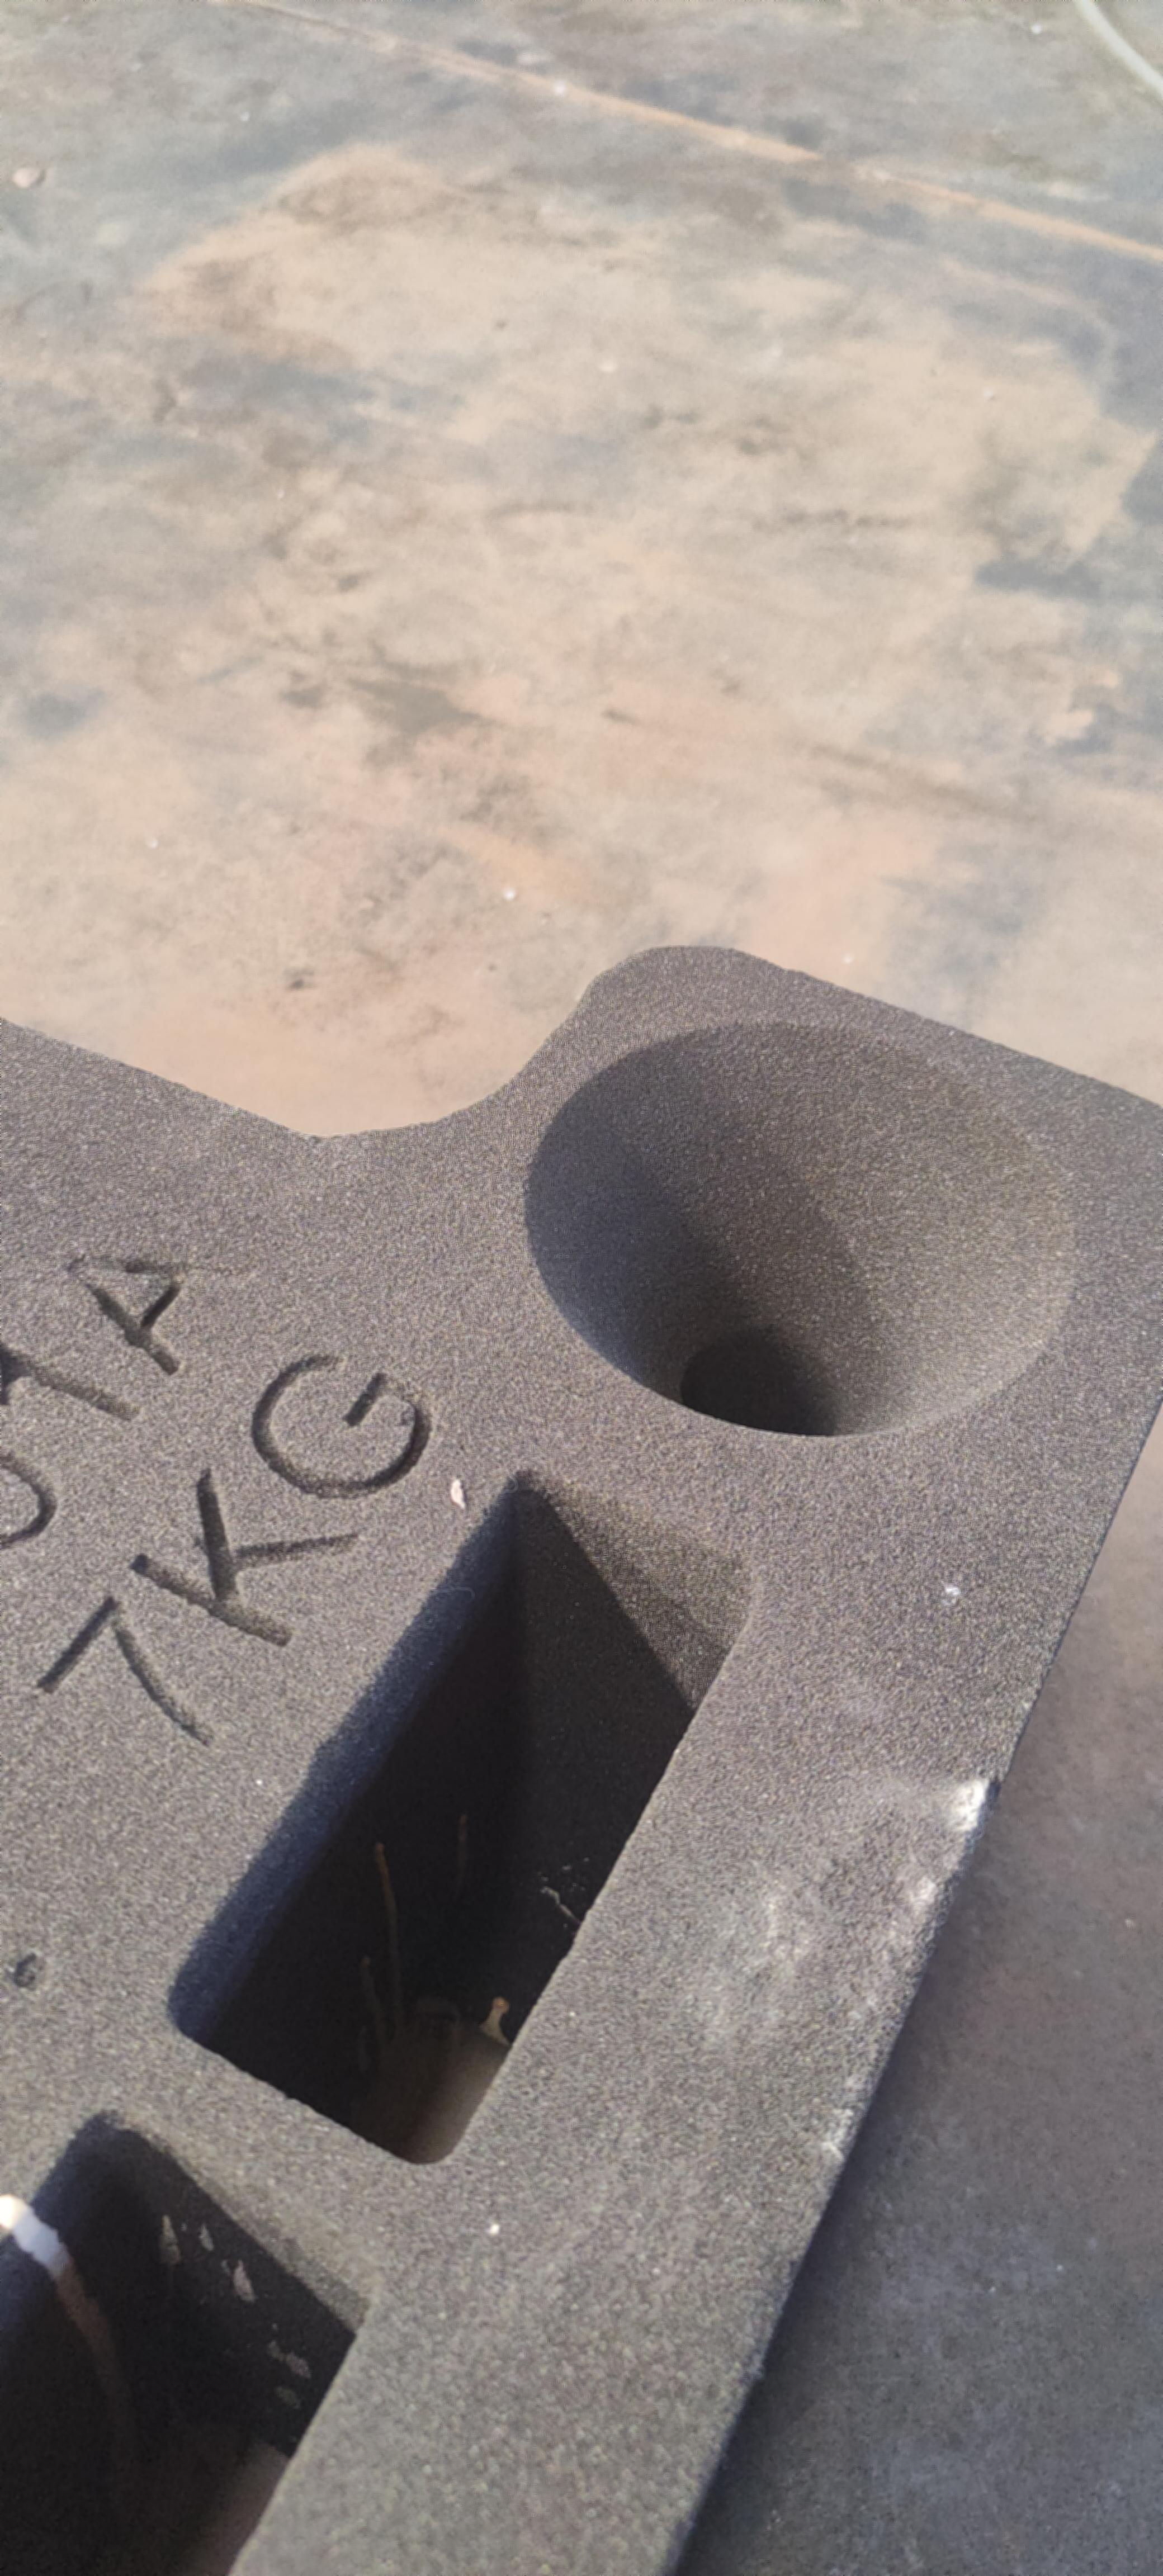pouring hole: (517, 1019, 1073, 1436)
